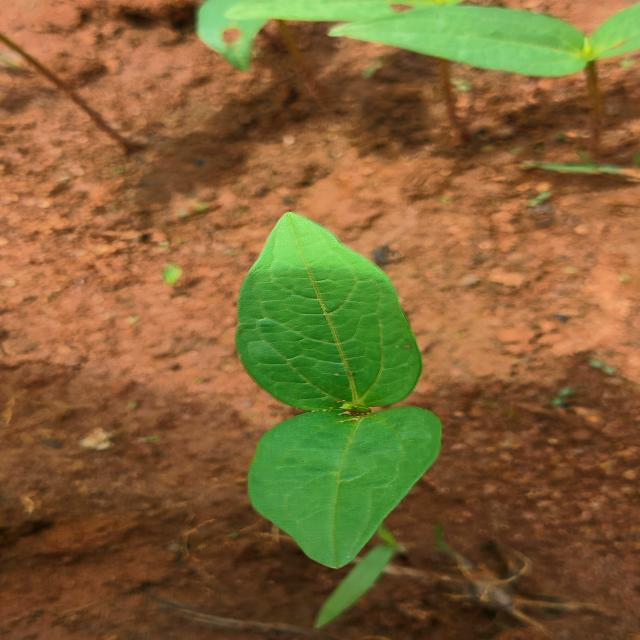Black gram_healthy: (238, 216, 428, 408), (244, 397, 445, 568), (318, 5, 586, 80)
